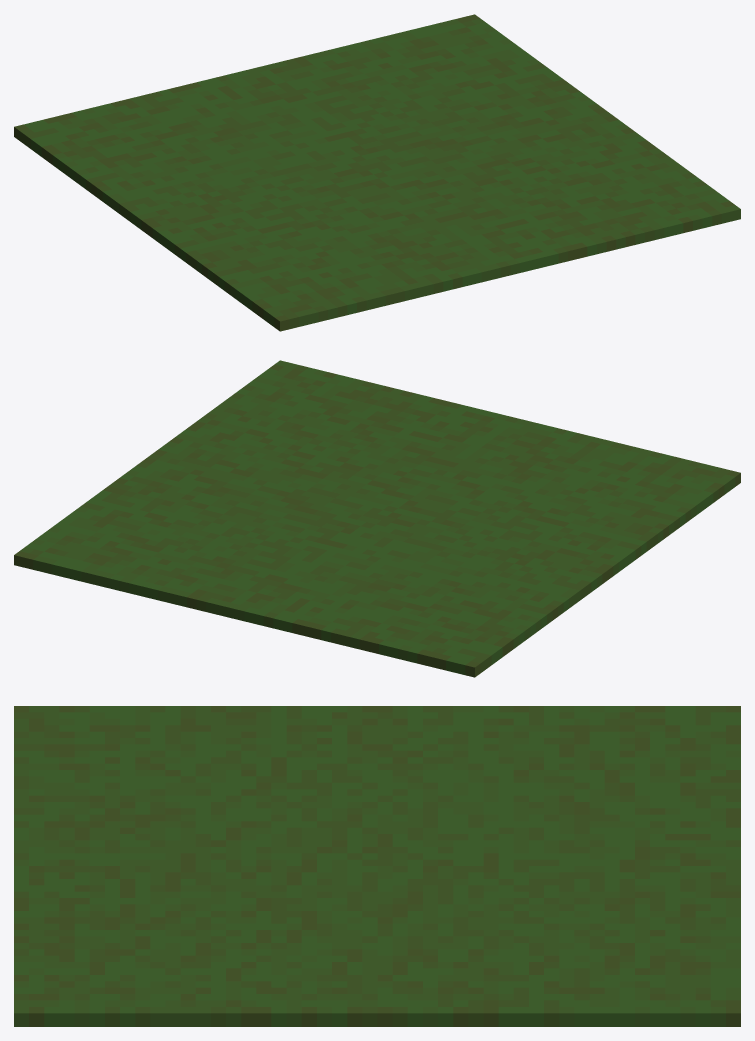
File: tile-4-grass.obj
3 renders of one model, top to bottom at view 1: azimuth 30°, elevation 25°; view 2: azimuth 150°, elevation 25°; view 3: azimuth 270°, elevation 25°, orthographic. The views are drawn at different scales.
Parts seen in each view (by area): view 1: grass; view 2: grass; view 3: grass.
Boxes of the visible parts, left/top/right/bottom form: grass: left=14, top=14, right=740, bottom=331; grass: left=14, top=360, right=740, bottom=677; grass: left=14, top=706, right=740, bottom=1026.
Bounding box in the file's own units: 4.8 × 0.1 × 4.8.
Materials: 1 (1 with a texture image).
